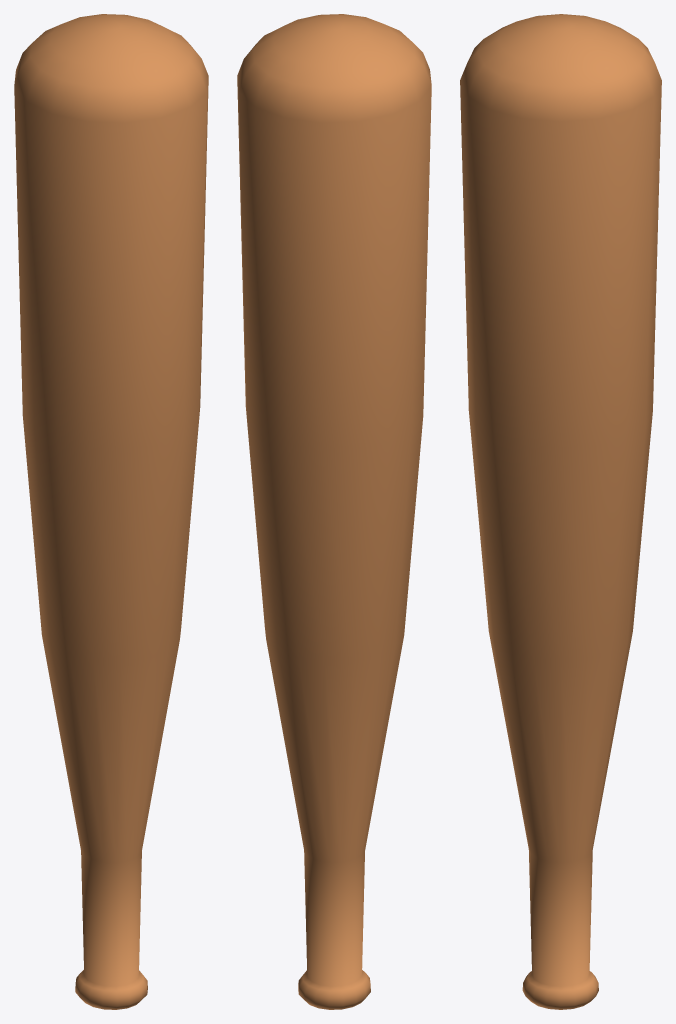
The model's file is Ground_Hammer_07.fbx.
The picture shows the model from 3 angles, left to right: view 1: azimuth 30°, elevation 25°; view 2: azimuth 150°, elevation 25°; view 3: azimuth 270°, elevation 25°; orthographic projection.
Visible parts, largest first — view 1: Obstacle_Ground_Hammer_07; view 2: Obstacle_Ground_Hammer_07; view 3: Obstacle_Ground_Hammer_07.
Boxes of the visible parts, x1=… form: Obstacle_Ground_Hammer_07: x1=14, y1=14, x2=208, y2=1009; Obstacle_Ground_Hammer_07: x1=237, y1=14, x2=431, y2=1009; Obstacle_Ground_Hammer_07: x1=460, y1=14, x2=661, y2=1009.
Bounding box in the file's own units: 88.7 × 490 × 91.75.
Materials: 1 (1 with a texture image).
